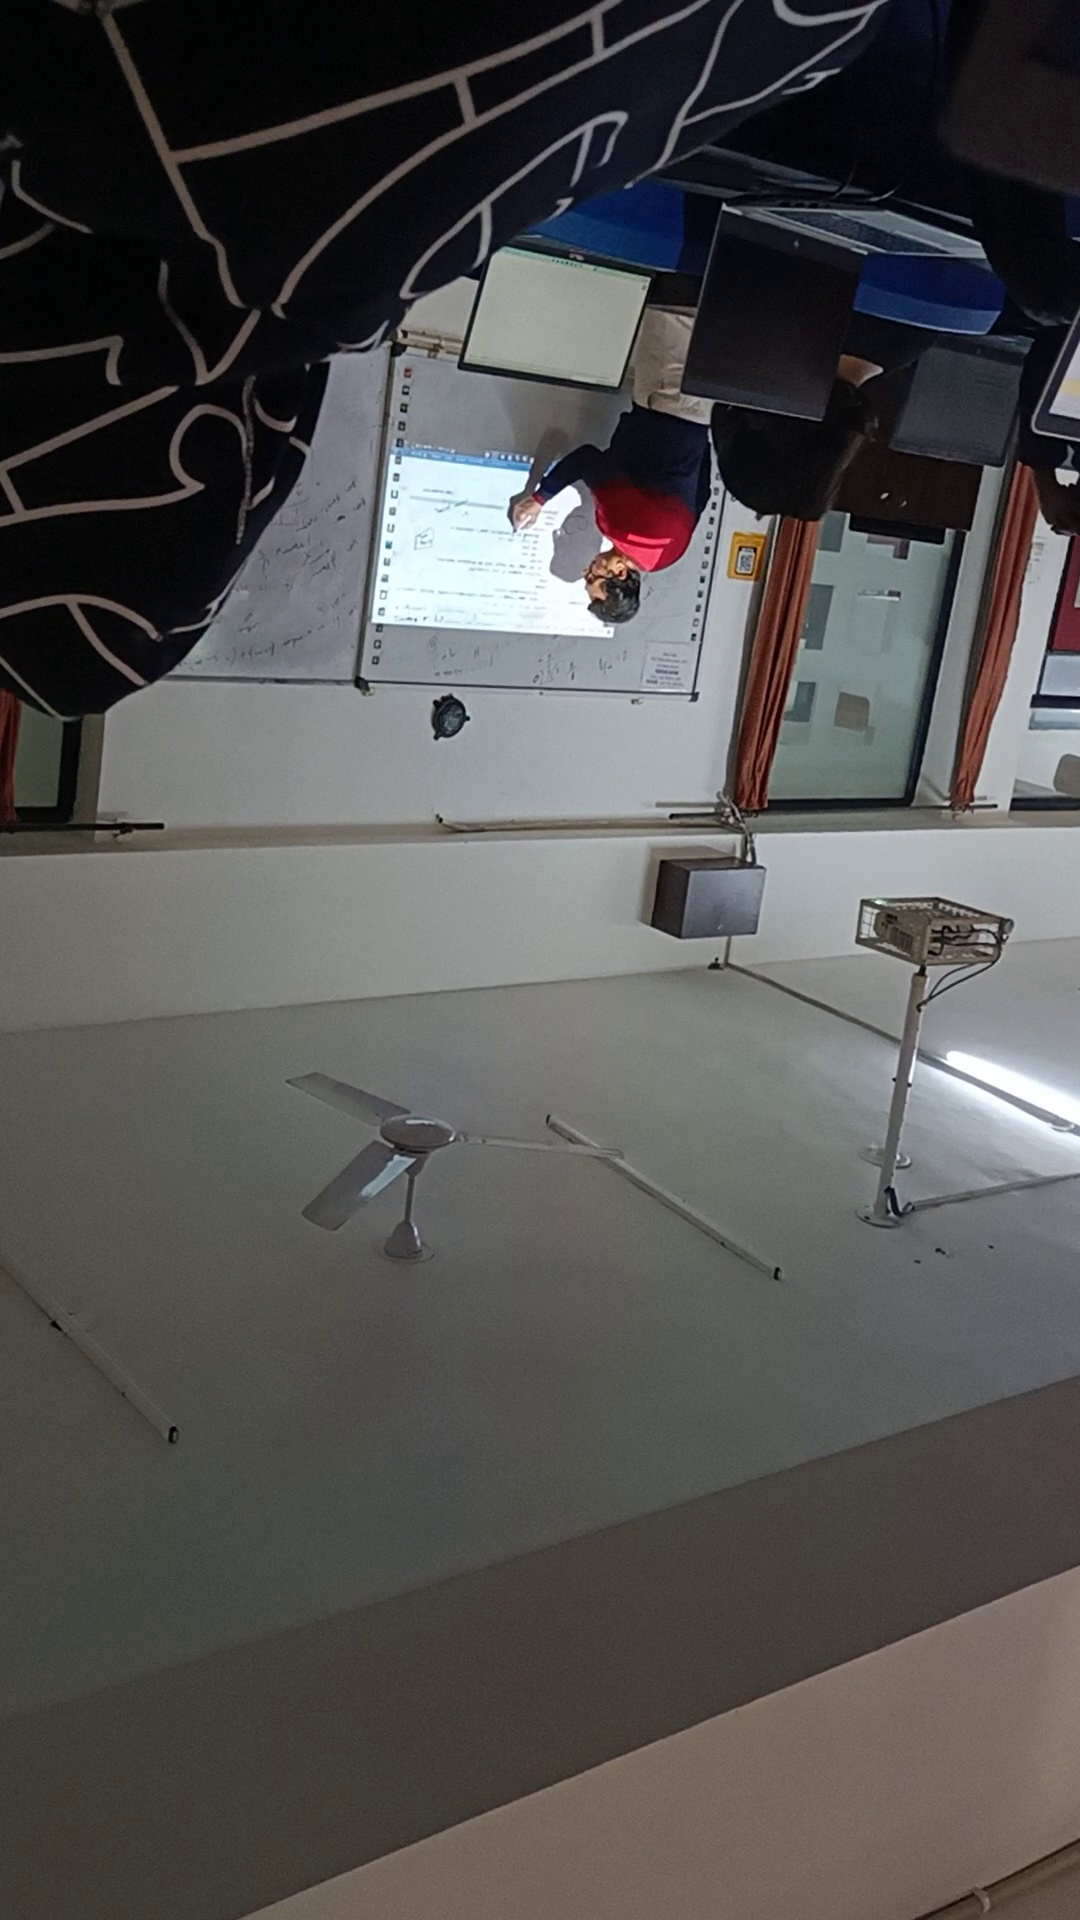fan: (251, 1056, 646, 1284)
projector: (840, 878, 1027, 1226)
tubelight: (1, 1224, 204, 1482)
